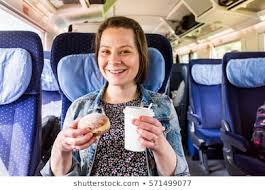eating: (93, 19, 167, 142)
